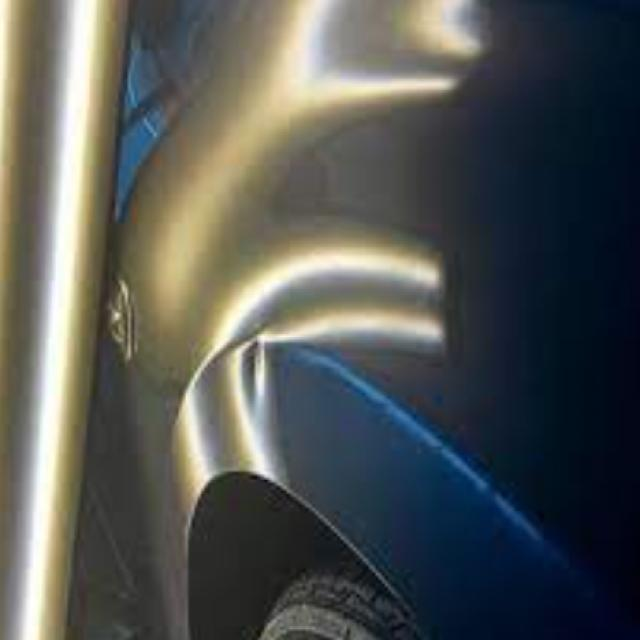dents: (202, 318, 310, 471)
